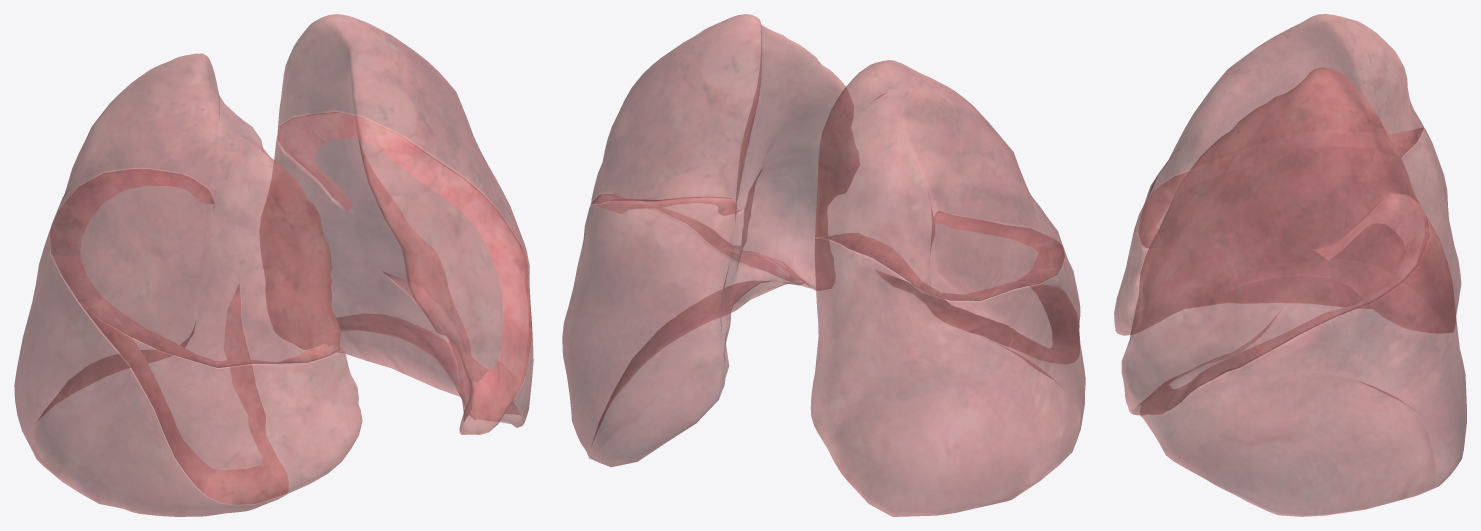
Rendered from 2.8 Diaphragm.glb.
3 renders of one model, left to right at view 1: azimuth 30°, elevation 25°; view 2: azimuth 150°, elevation 25°; view 3: azimuth 270°, elevation 25°, orthographic. The views are drawn at different scales.
Parts seen in each view (by area): view 1: R_Lung, L_Lung; view 2: R_Lung, L_Lung; view 3: L_Lung, R_Lung.
Boxes of the visible parts, left/top/right/bottom form: R_Lung: left=14, top=53, right=362, bottom=516; L_Lung: left=259, top=14, right=533, bottom=434; R_Lung: left=810, top=60, right=1085, bottom=516; L_Lung: left=562, top=14, right=859, bottom=467; L_Lung: left=1121, top=67, right=1466, bottom=516; R_Lung: left=1114, top=14, right=1461, bottom=335.
Bounding box in the file's own units: 0.272 × 0.2447 × 0.203.
2 materials, 2 textured.
